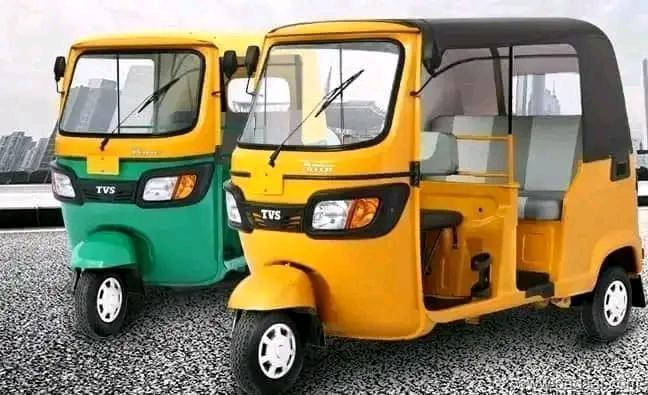keke: (229, 7, 644, 386), (42, 28, 338, 338)
